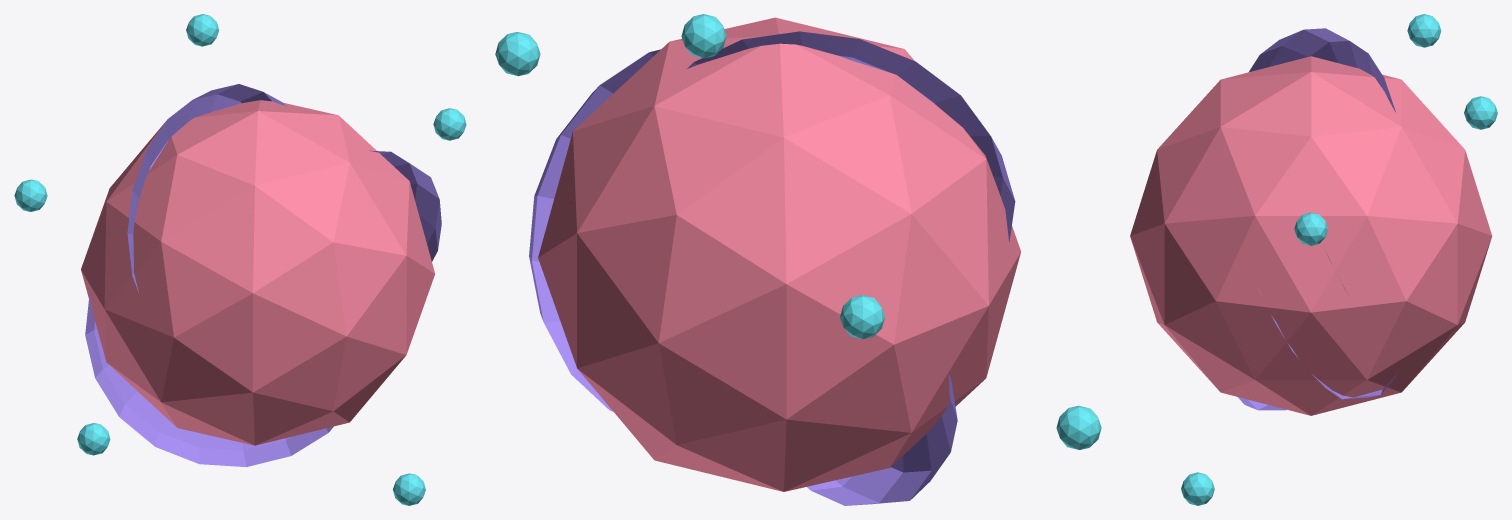
3 renders of one model, left to right at view 1: azimuth 30°, elevation 25°; view 2: azimuth 150°, elevation 25°; view 3: azimuth 270°, elevation 25°, orthographic. The views are drawn at different scales.
Parts seen in each view (by area): view 1: Icosphere, TorusKnot, Sphere_0, Sphere_1, Sphere_2, Sphere_4, Sphere_3; view 2: Icosphere, TorusKnot, Sphere_1, Sphere_2, Sphere_0, Sphere_4; view 3: Icosphere, TorusKnot, Sphere_4, Sphere_3, Sphere_2, Sphere_0.
Boxes of the visible parts, x1=… form: Icosphere: x1=81, y1=100, x2=434, y2=445; TorusKnot: x1=85, y1=84, x2=441, y2=467; Sphere_0: x1=433, y1=108, x2=466, y2=140; Sphere_1: x1=77, y1=423, x2=110, y2=455; Sphere_2: x1=186, y1=14, x2=219, y2=46; Sphere_4: x1=14, y1=179, x2=47, y2=211; Sphere_3: x1=393, y1=473, x2=425, y2=505; Icosphere: x1=538, y1=17, x2=1020, y2=491; TorusKnot: x1=529, y1=31, x2=1015, y2=505; Sphere_1: x1=1056, y1=405, x2=1101, y2=449; Sphere_2: x1=681, y1=14, x2=726, y2=58; Sphere_0: x1=495, y1=32, x2=540, y2=76; Sphere_4: x1=840, y1=295, x2=884, y2=339; Icosphere: x1=1130, y1=56, x2=1492, y2=415; TorusKnot: x1=1238, y1=28, x2=1397, y2=410; Sphere_4: x1=1464, y1=96, x2=1497, y2=129; Sphere_3: x1=1181, y1=472, x2=1214, y2=505; Sphere_2: x1=1407, y1=14, x2=1441, y2=47; Sphere_0: x1=1294, y1=212, x2=1327, y2=245.
Bounding box in the file's own units: 4.3 × 4.3 × 3.25.
